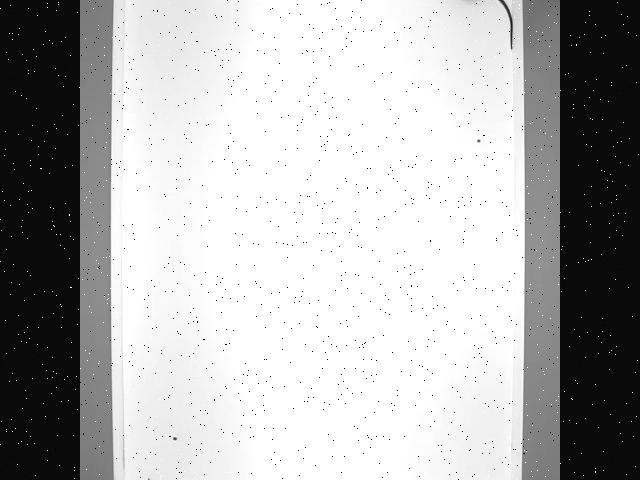Tikus: (439, 0, 517, 53)
